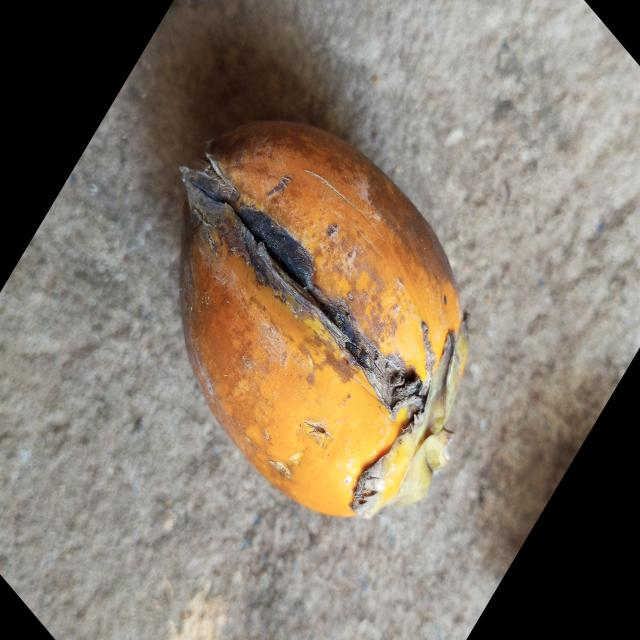damaged: (180, 122, 469, 517)
